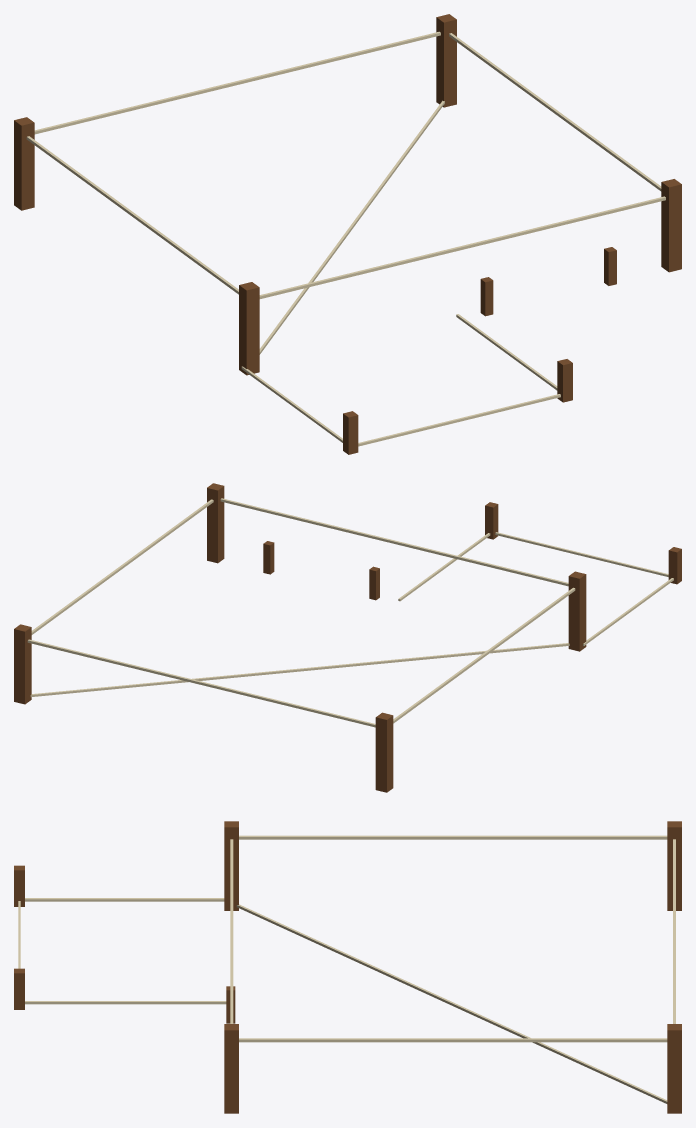
The model's file is planned.glb.
The picture shows the model from 3 angles, top to bottom: view 1: azimuth 30°, elevation 25°; view 2: azimuth 150°, elevation 25°; view 3: azimuth 270°, elevation 25°; orthographic projection. The views are drawn at different scales.
Visible parts, largest first — view 1: stakes, string_lines; view 2: string_lines, stakes; view 3: string_lines, stakes.
Part boxes in pixels (x1,y1,x2,y2): stakes: (14,14,681,454); string_lines: (26,31,665,446); string_lines: (27,498,673,727); stakes: (14,483,681,792); string_lines: (18,835,675,1103); stakes: (14,821,681,1113).
Size of the model in its own units: 2.71 by 0.5 by 3.62.
